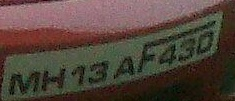character: (8, 70, 39, 95), (136, 38, 155, 73), (41, 67, 67, 92), (113, 55, 136, 79), (177, 36, 196, 62), (196, 29, 215, 55), (88, 60, 108, 84), (159, 42, 177, 67), (70, 63, 84, 87)
